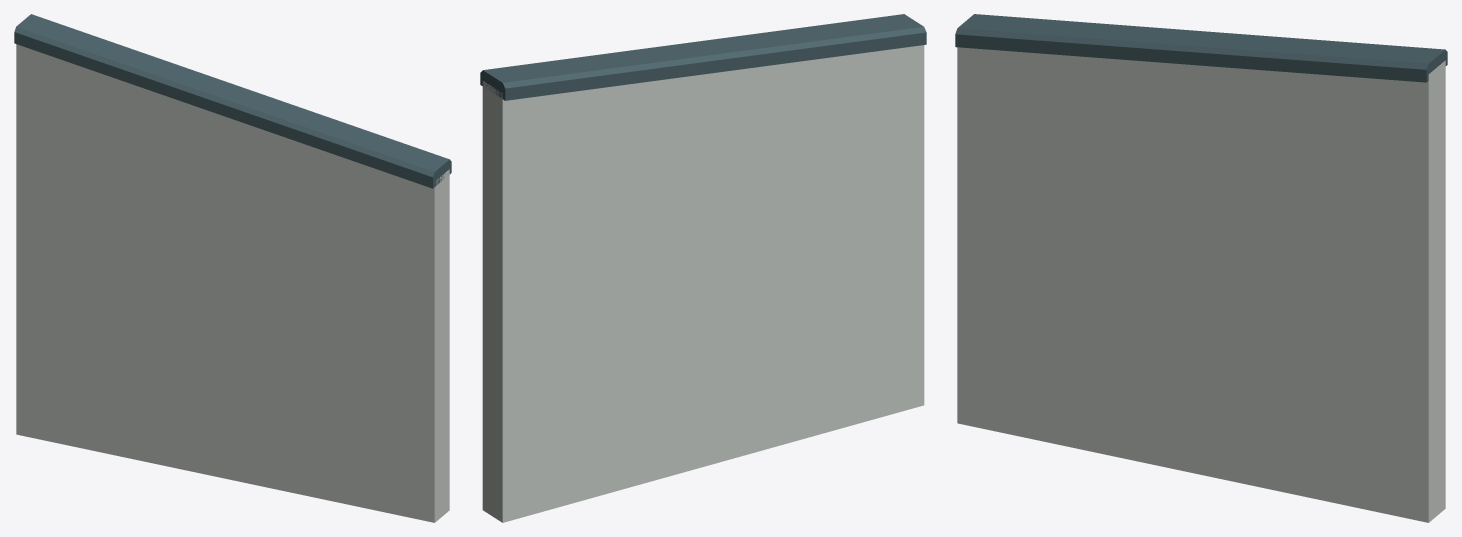
The model's file is halfwall_26_port_rise_2.glb.
The picture shows the model from 3 angles, left to right: view 1: azimuth 90°, elevation 25°; view 2: azimuth 150°, elevation 25°; view 3: azimuth 270°, elevation 25°; orthographic projection. The views are drawn at different scales.
Visible parts, largest first — view 1: Seamless solid halfwall.005, Seamless top cap.005; view 2: Seamless solid halfwall.005, Seamless top cap.005; view 3: Seamless solid halfwall.005, Seamless top cap.005.
Boxes of the visible parts, x1,y1,x2,y2 form: Seamless solid halfwall.005: (16, 44, 449, 522); Seamless top cap.005: (14, 14, 451, 188); Seamless solid halfwall.005: (482, 45, 924, 522); Seamless top cap.005: (480, 14, 926, 100); Seamless solid halfwall.005: (957, 47, 1445, 522); Seamless top cap.005: (955, 14, 1447, 82).
Bounding box in the file's own units: 0.5894 × 1.08 × 1.04.
